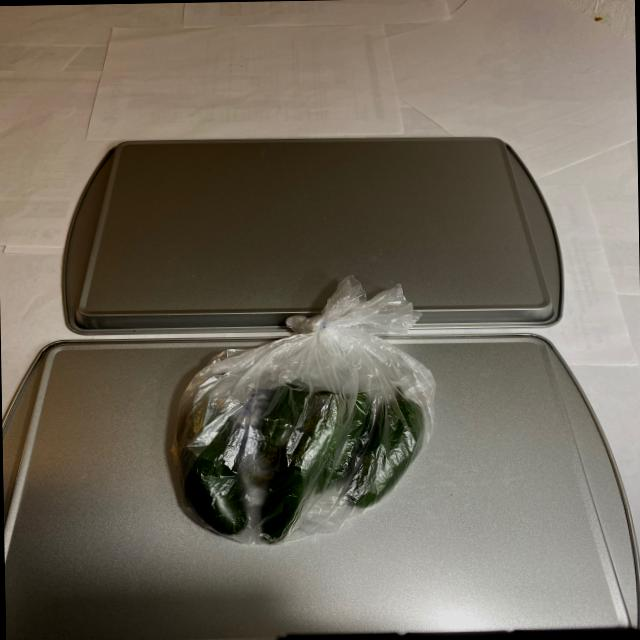chilli: (162, 327, 440, 544)
